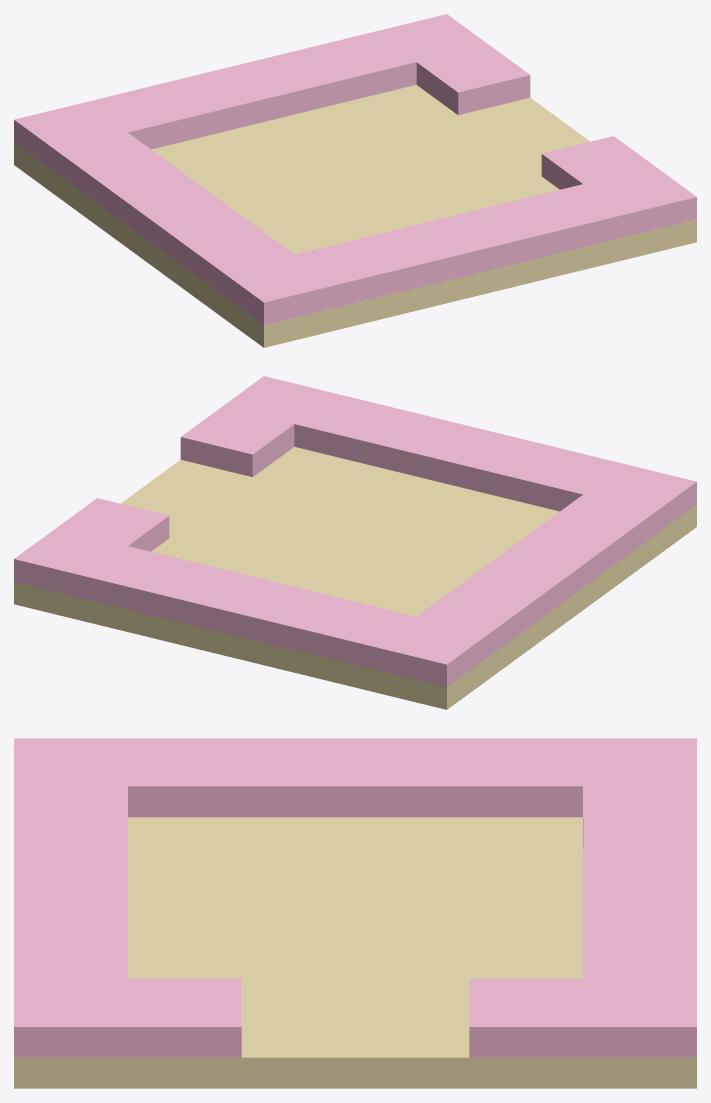
Rendered from CandylandStart.fbx.
The picture shows the model from 3 angles, top to bottom: view 1: azimuth 30°, elevation 25°; view 2: azimuth 150°, elevation 25°; view 3: azimuth 270°, elevation 25°; orthographic projection. The views are drawn at different scales.
Parts seen in each view (by area): view 1: CandylandStart; view 2: CandylandStart; view 3: CandylandStart.
Part boxes in pixels (box(x1,y1,x2,y2)): CandylandStart: box(14, 14, 696, 347); CandylandStart: box(14, 376, 696, 709); CandylandStart: box(14, 738, 696, 1088).
Bounding box in the file's own units: 1 × 0.1 × 1.
